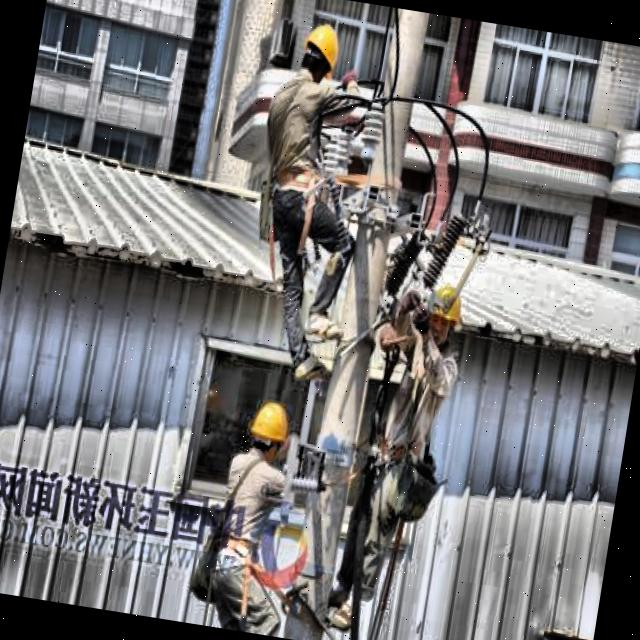helmet: (295, 18, 346, 93), (243, 394, 296, 466), (422, 273, 469, 344)
